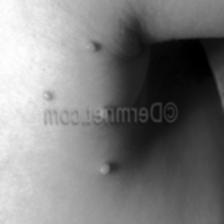Toxin: (84, 40, 96, 54), (100, 164, 112, 177), (43, 90, 53, 103), (100, 108, 108, 118)
